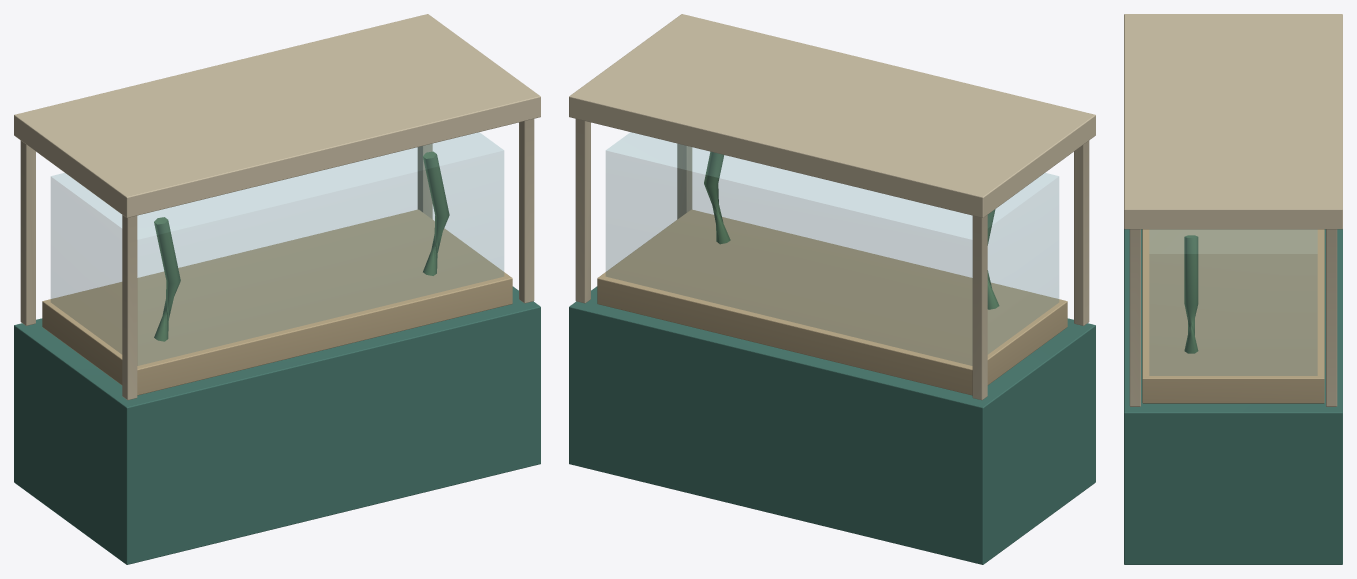
Rendered from museum_tank.glb.
3 renders of one model, left to right at view 1: azimuth 30°, elevation 25°; view 2: azimuth 150°, elevation 25°; view 3: azimuth 270°, elevation 25°, orthographic. The views are drawn at different scales.
Bounding box in the file's own units: 1.65 × 1.4 × 0.78.
